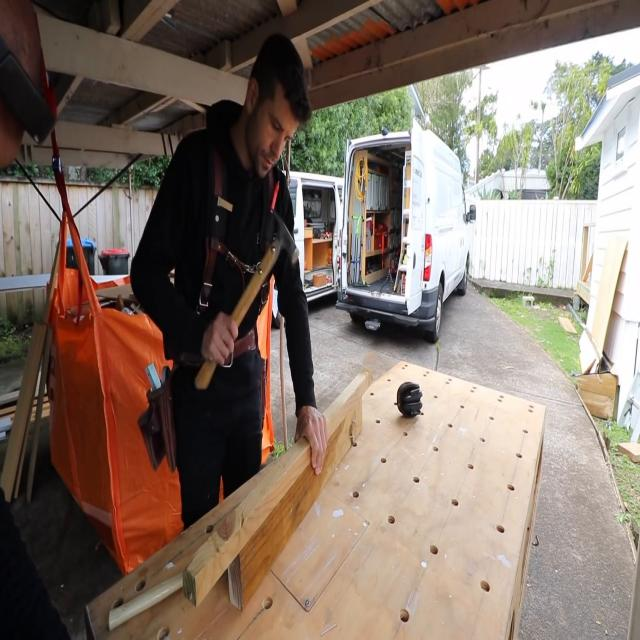hammer: (194, 208, 299, 393)
